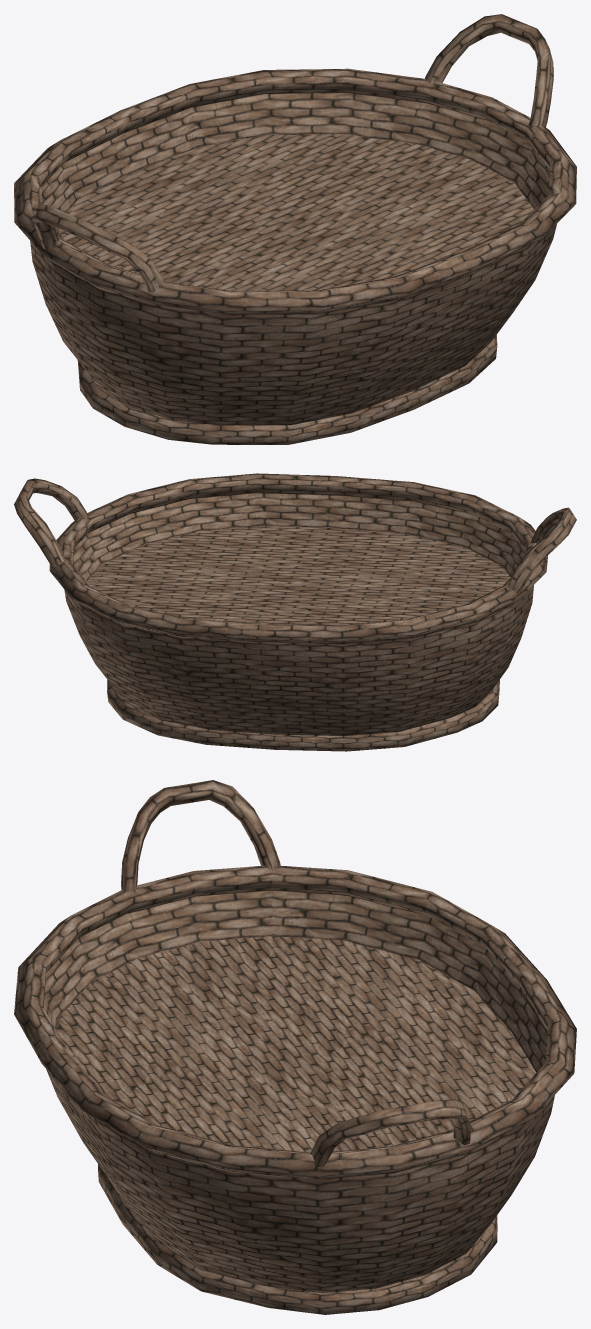
The model's file is Wicker_Basket_02.glb.
The picture shows the model from 3 angles, top to bottom: view 1: azimuth 30°, elevation 25°; view 2: azimuth 150°, elevation 25°; view 3: azimuth 270°, elevation 25°; orthographic projection. The views are drawn at different scales.
Visible parts, largest first — view 1: Wicker_Basket_02; view 2: Wicker_Basket_02; view 3: Wicker_Basket_02.
Part boxes in pixels (bbox=[...]): Wicker_Basket_02: bbox=[14, 14, 576, 444]; Wicker_Basket_02: bbox=[14, 473, 576, 751]; Wicker_Basket_02: bbox=[14, 780, 576, 1314].
Size of the model in its own units: 0.8591 by 0.3657 by 0.6633.
1 material, 1 textured.
